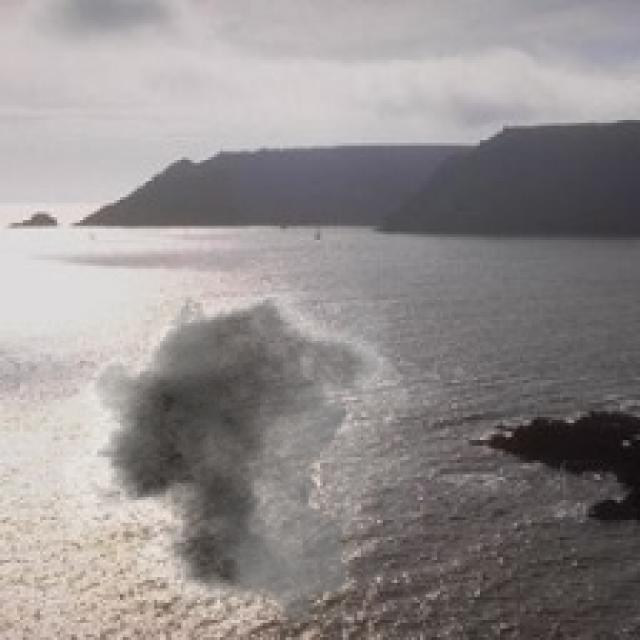smoke: (37, 266, 460, 628)
